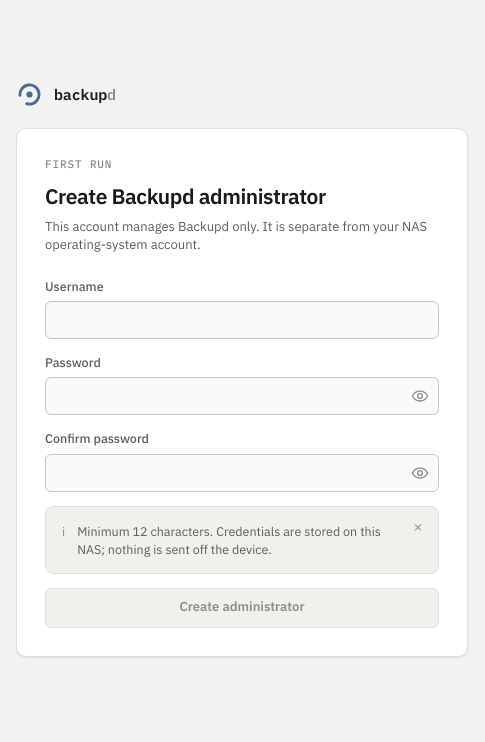
enrolment says why it refused › says to wait when the address is rate limited
Step 1. Type "bm-admin" into the field labelled "Username" → coordinates (242, 320), box [45,301,439,339]
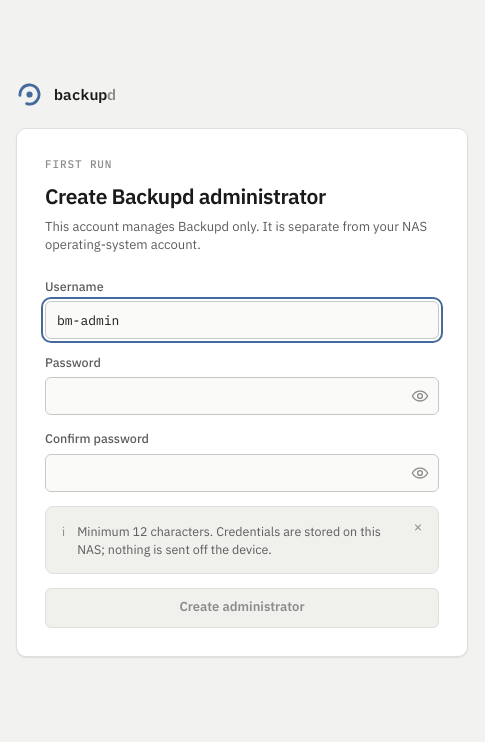
Step 2. Type "a-long-enough-passphrase" into the password field labelled "Password" → coordinates (242, 396), box [45,378,439,416]
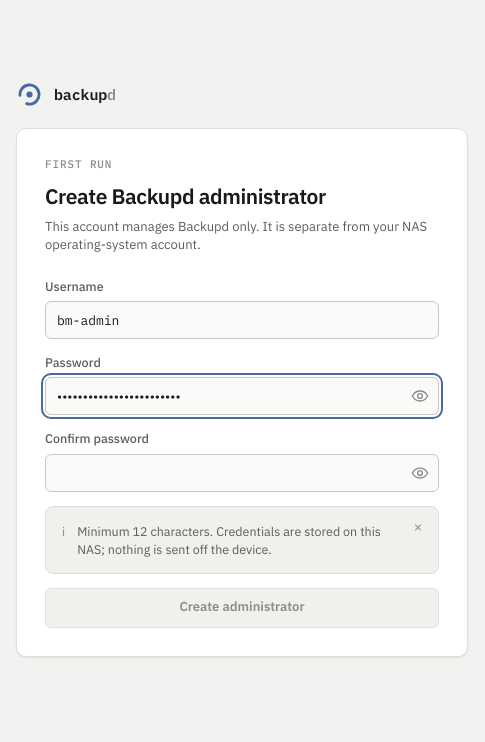
Step 3. Type "a-long-enough-passphrase" into the password field labelled "Confirm password" → coordinates (242, 473), box [45,454,439,492]
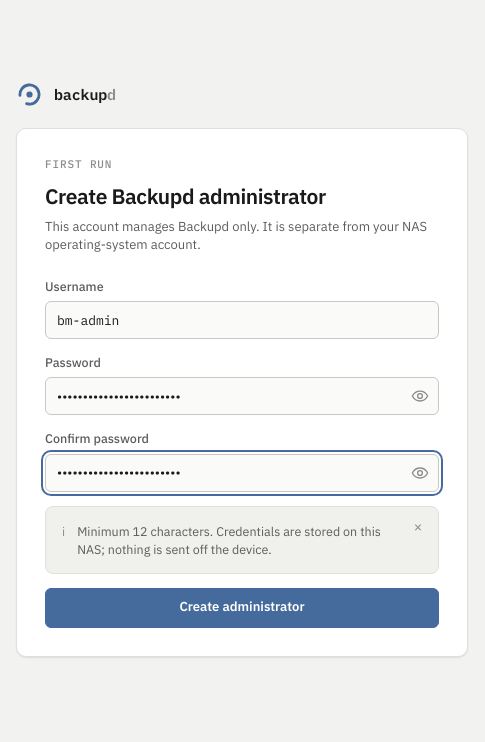
Step 4. Click the button "Create administrator" → coordinates (242, 608), box [45,588,439,628]
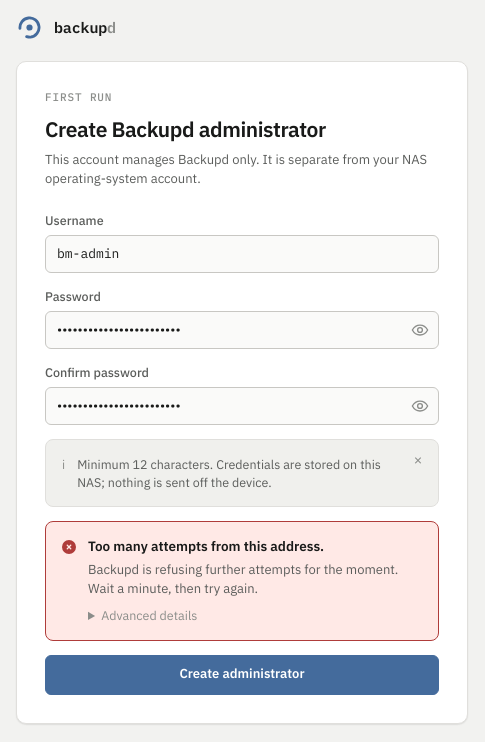
Check: the text "Too many attempts from this address." is shown, box [88,537,324,555]
Check: the text "Wait a minute" is shown, box [88,561,398,596]
